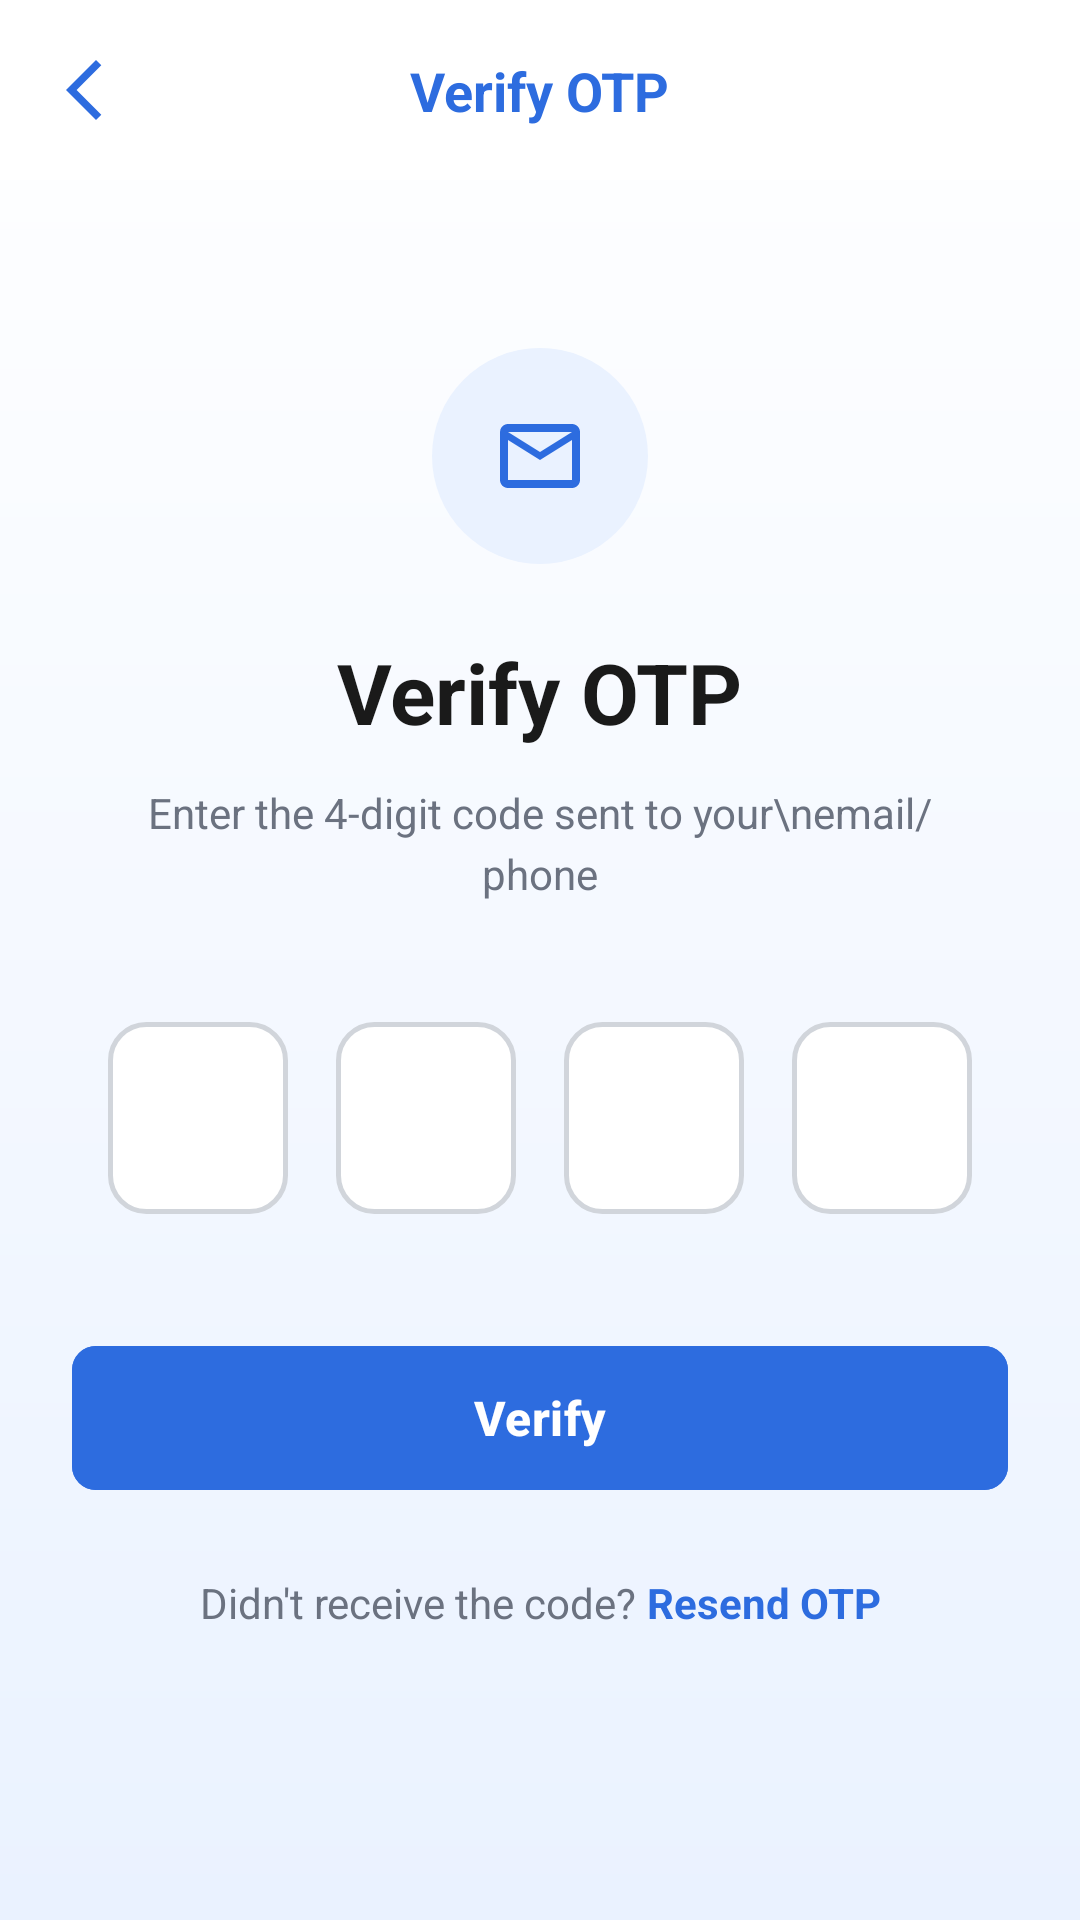

Named icons in this screenshot (1080px×1920px) and their centers, (x,y):
arrow back: (83,90)
email: (540,456)
